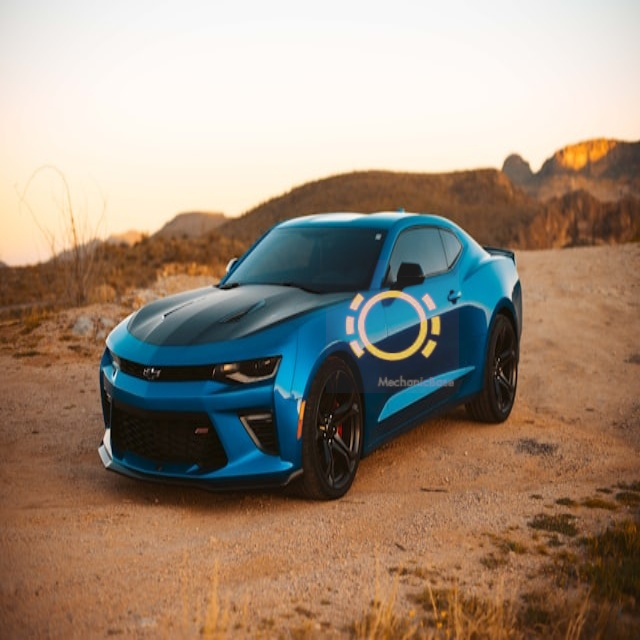symbol: (354, 43, 522, 211), (326, 260, 459, 393)
